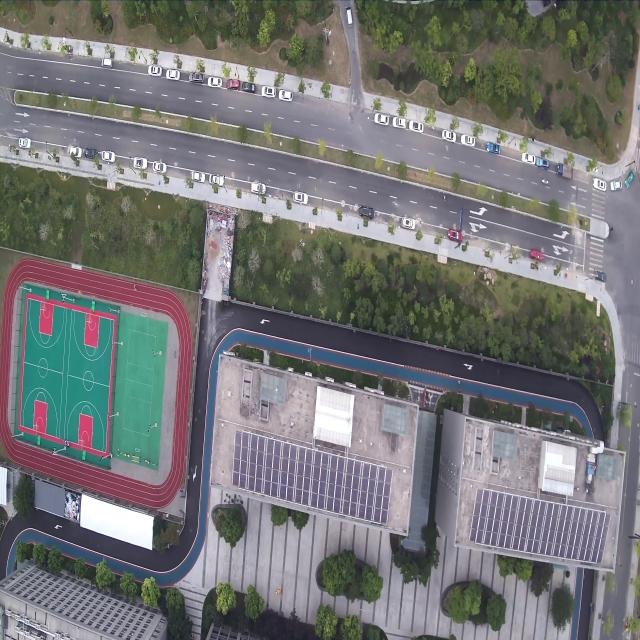drone: (307, 347, 311, 353)
